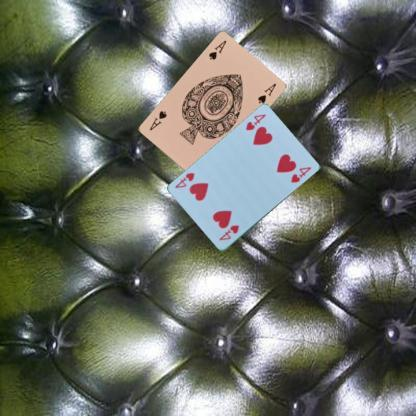4h: (243, 112, 267, 132), (216, 223, 240, 242)
As: (206, 38, 228, 61)
